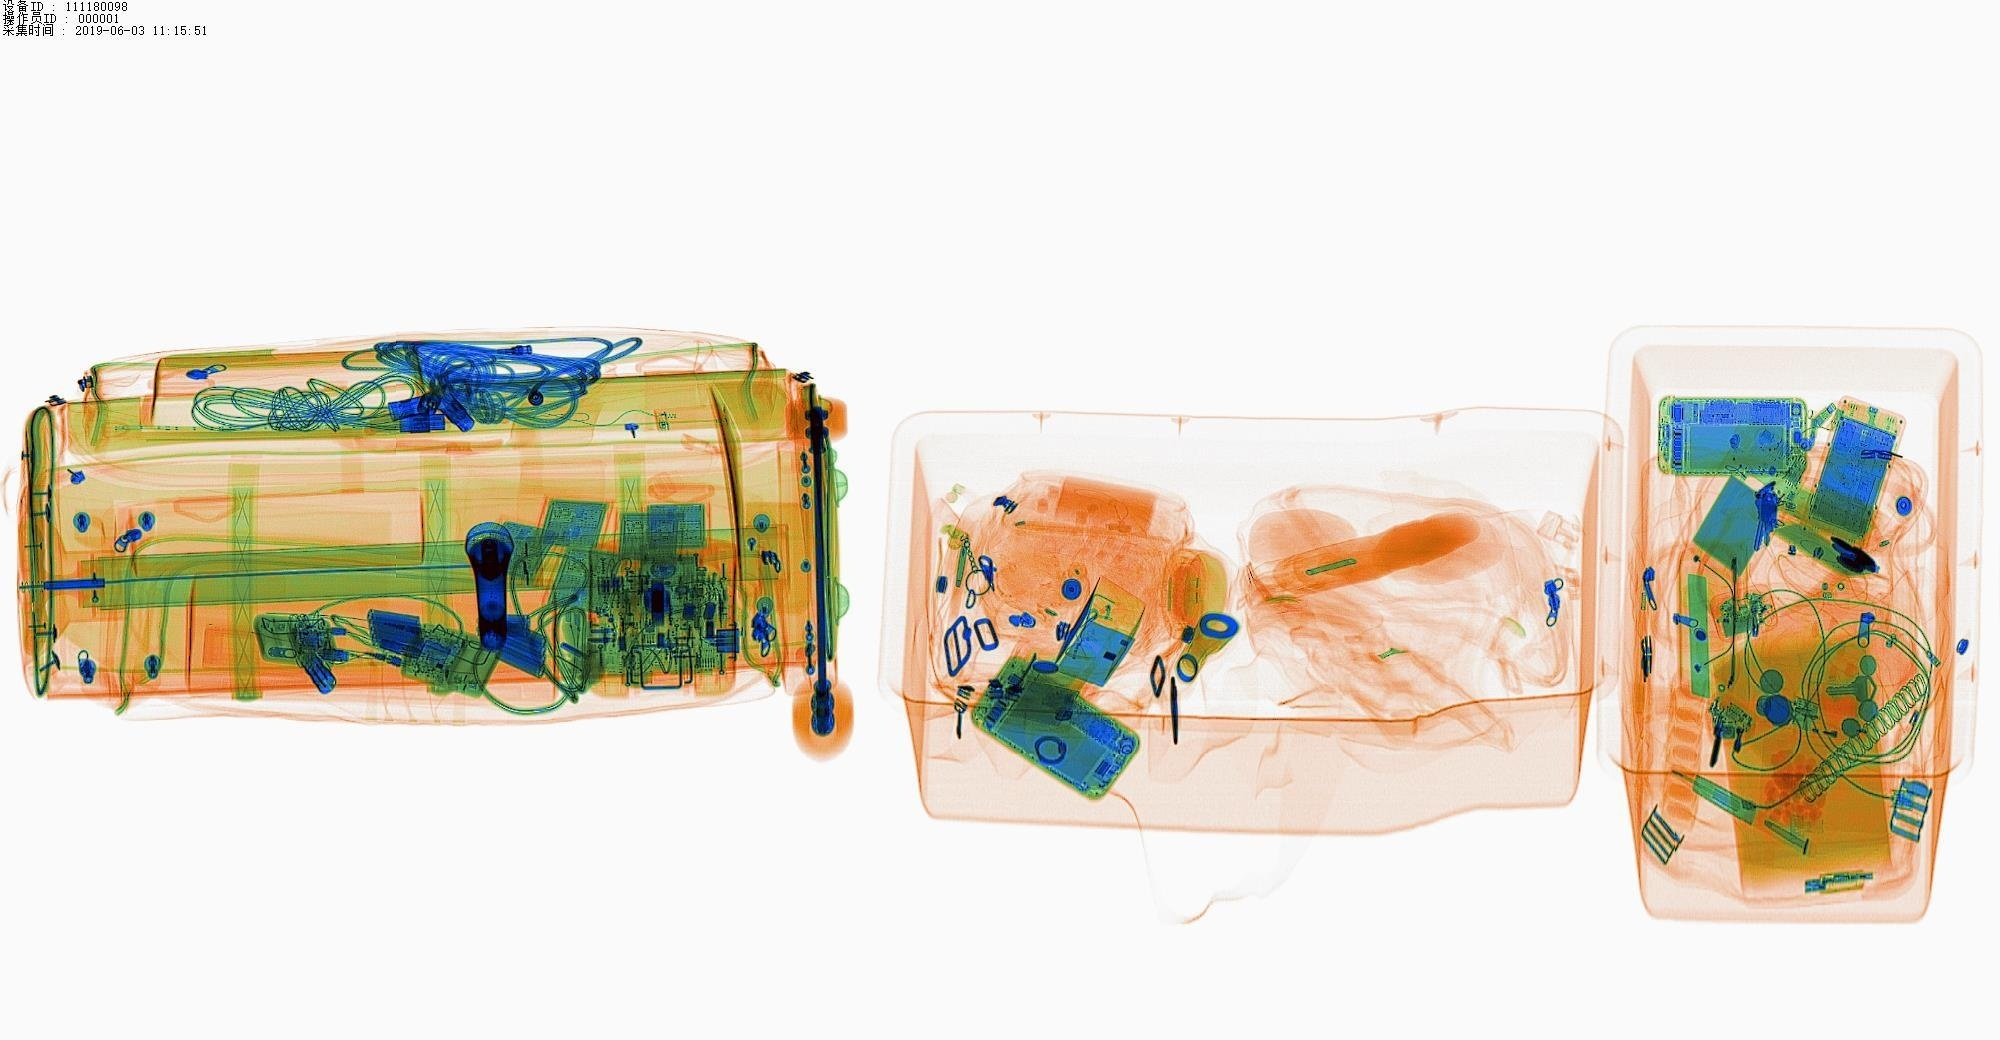NonmetallicFire: (1784, 689, 1881, 765)
